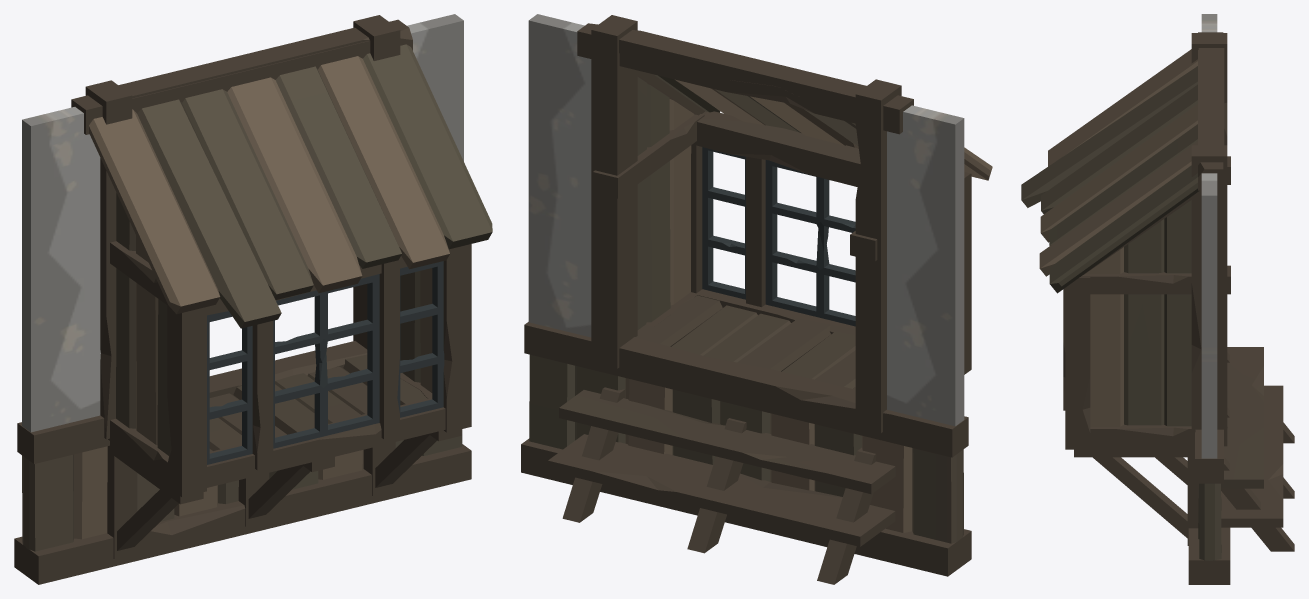
File: kingdom_SM_Bld_House_Wall_WindowBox_04.gltf
3 views of the same model, side by side, from view 1: azimuth 30°, elevation 25°; view 2: azimuth 150°, elevation 25°; view 3: azimuth 270°, elevation 25° (orthographic). The views are drawn at different scales.
Visible parts, largest first — view 1: SM_Bld_House_Wall_WindowBox_04; view 2: SM_Bld_House_Wall_WindowBox_04; view 3: SM_Bld_House_Wall_WindowBox_04.
Boxes of the visible parts, bbox=[...] form: SM_Bld_House_Wall_WindowBox_04: bbox=[14, 14, 492, 584]; SM_Bld_House_Wall_WindowBox_04: bbox=[521, 14, 992, 584]; SM_Bld_House_Wall_WindowBox_04: bbox=[1021, 14, 1294, 584].
Bounding box in the file's own units: 2.51 × 2.56 × 1.59.
Materials: 1 (1 with a texture image).
